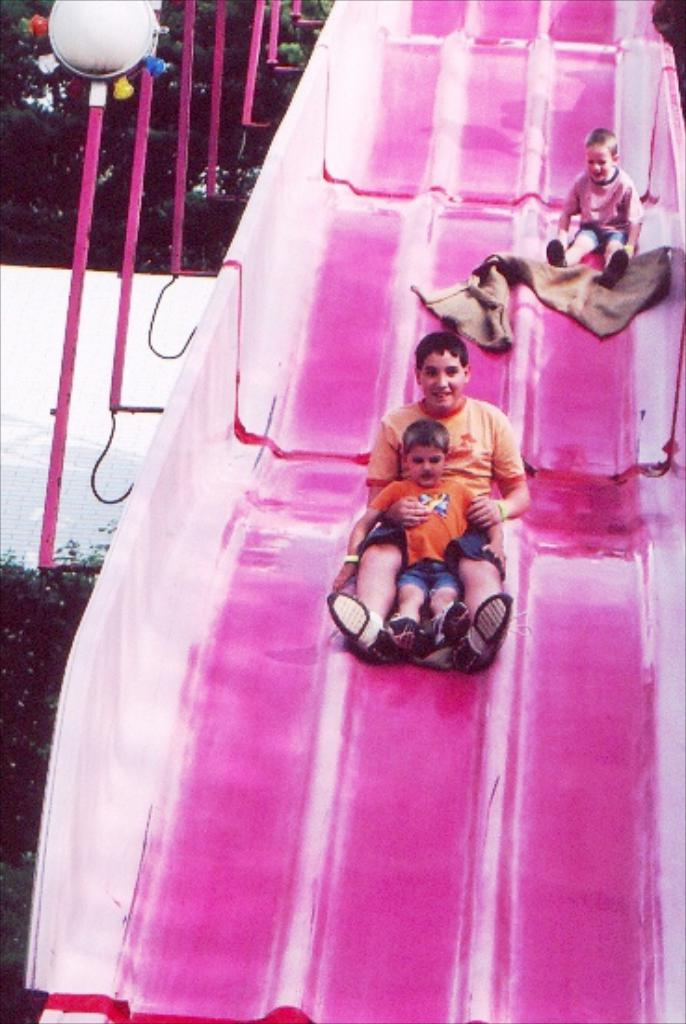Person: (327, 330, 531, 670), (332, 416, 511, 649), (544, 124, 650, 283)
